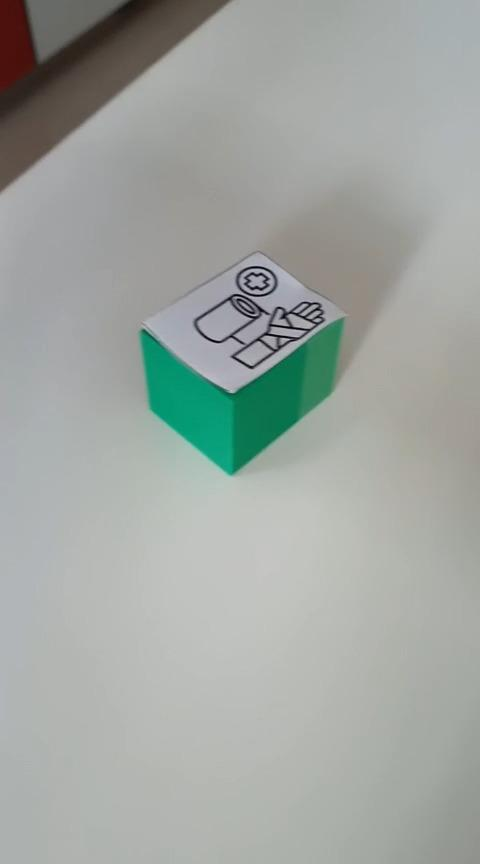Bandages: (137, 249, 348, 476)
